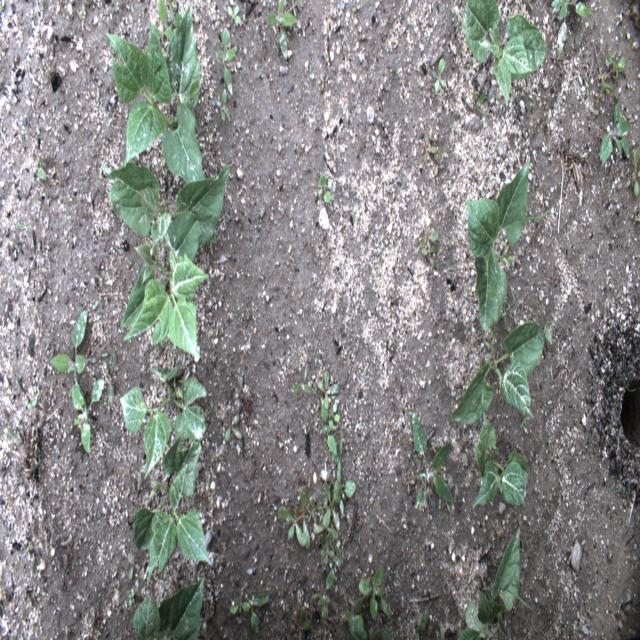crop: (106, 2, 209, 184), (120, 212, 210, 354), (132, 434, 214, 587), (98, 160, 234, 250), (465, 159, 530, 331), (120, 362, 208, 481), (448, 323, 545, 424), (461, 0, 547, 107), (458, 524, 520, 638), (473, 416, 530, 508), (133, 576, 205, 638)
weed: (412, 409, 454, 508), (50, 309, 96, 388), (278, 486, 320, 550), (550, 0, 592, 63), (320, 459, 356, 530), (72, 380, 104, 454), (265, 0, 299, 62), (600, 102, 631, 169), (594, 49, 628, 109), (359, 566, 389, 617), (218, 27, 238, 96), (149, 0, 182, 41), (312, 567, 335, 619), (419, 218, 440, 266), (250, 592, 273, 635), (321, 398, 338, 456), (317, 369, 340, 411), (344, 598, 366, 640), (210, 87, 231, 123), (291, 603, 312, 638), (422, 128, 439, 165), (105, 351, 116, 407), (225, 406, 242, 441), (430, 58, 447, 92), (294, 366, 314, 394), (316, 174, 333, 204), (229, 595, 251, 616), (320, 532, 334, 564), (472, 85, 486, 116), (130, 552, 142, 580), (328, 402, 340, 430), (632, 150, 639, 198), (35, 156, 47, 181), (227, 5, 241, 25), (128, 587, 135, 607)
